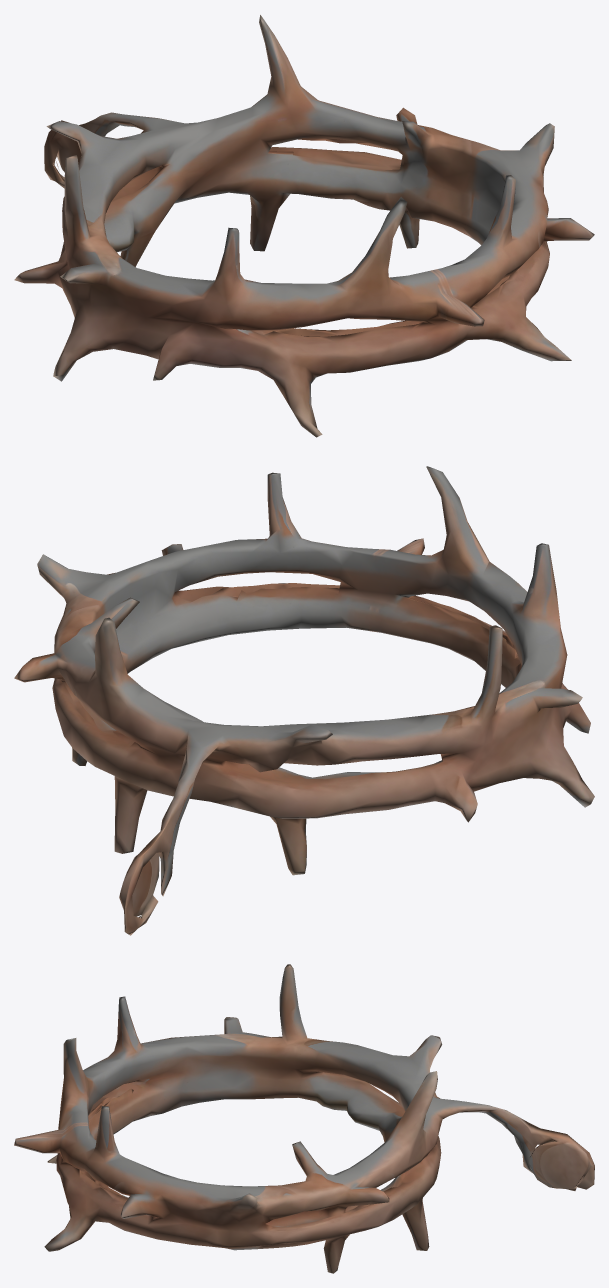
File: palisade.glb
3 views of the same model, one above another, from view 1: azimuth 30°, elevation 25°; view 2: azimuth 150°, elevation 25°; view 3: azimuth 270°, elevation 25° (orthographic). The views are drawn at different scales.
Parts seen in each view (by area): view 1: tripo_node_42021c8a-359f-4feb-b9b4-314a5660f71d; view 2: tripo_node_42021c8a-359f-4feb-b9b4-314a5660f71d; view 3: tripo_node_42021c8a-359f-4feb-b9b4-314a5660f71d.
Part boxes in pixels (<box>): tripo_node_42021c8a-359f-4feb-b9b4-314a5660f71d: <box>14,15,594,437</box>; tripo_node_42021c8a-359f-4feb-b9b4-314a5660f71d: <box>14,466,594,935</box>; tripo_node_42021c8a-359f-4feb-b9b4-314a5660f71d: <box>14,964,594,1273</box>.
Bounding box in the file's own units: 0.8203 × 0.3479 × 0.9994.
Materials: 1 (1 with a texture image).
